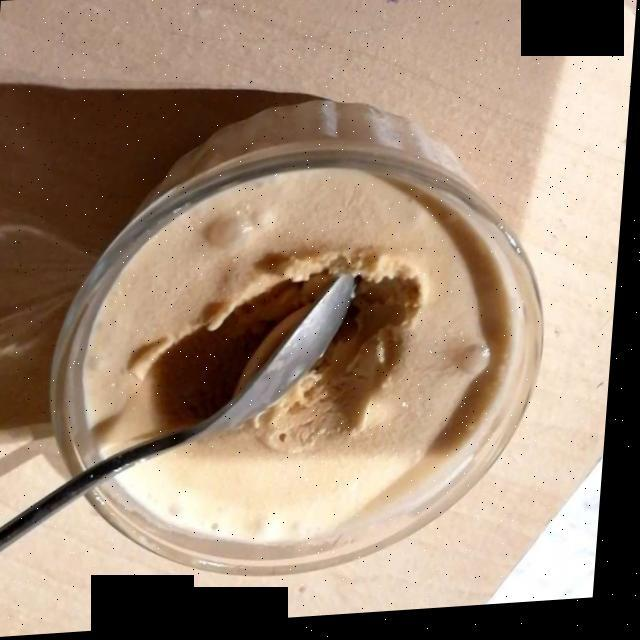ice-cream: (94, 179, 490, 533)
